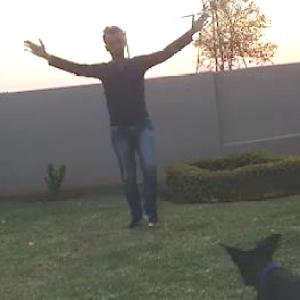takeoff: (29, 17, 212, 224)
